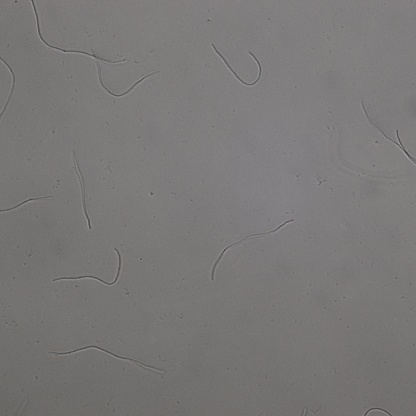Sensitive: (31, 1, 127, 63), (212, 219, 294, 279), (363, 100, 416, 165), (50, 345, 163, 373), (92, 51, 159, 97), (52, 248, 123, 286), (212, 44, 262, 86), (73, 151, 91, 230), (1, 195, 52, 214), (1, 58, 17, 118), (363, 406, 391, 416)
